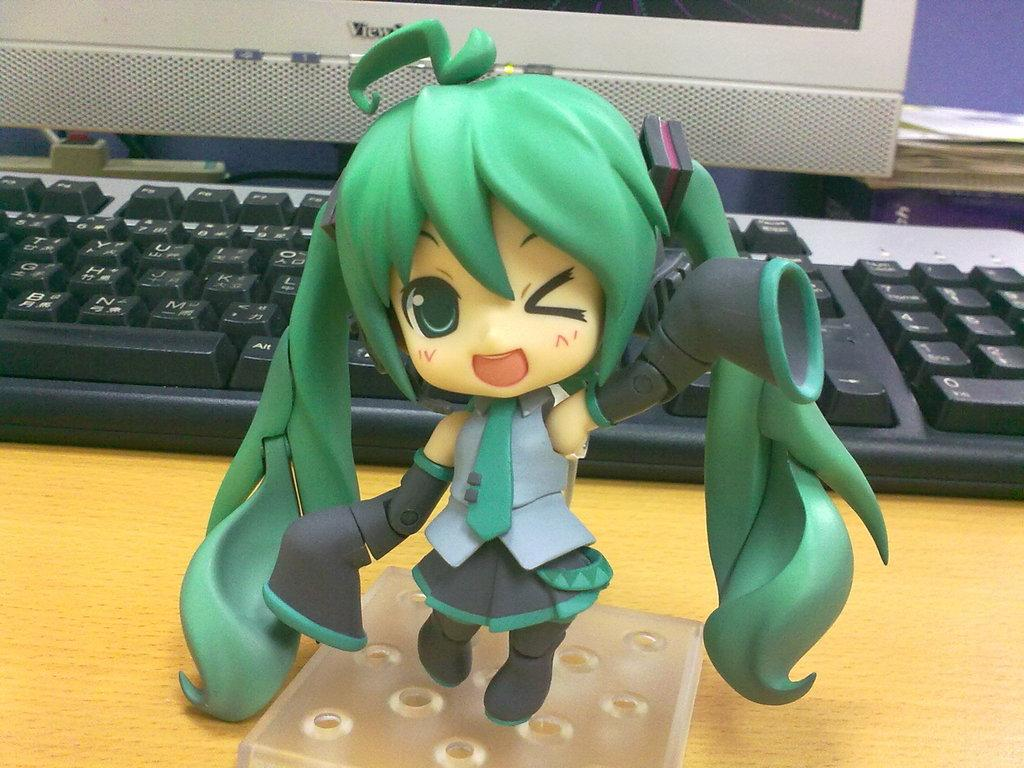Computer-keyboard: (0, 169, 1023, 502)
